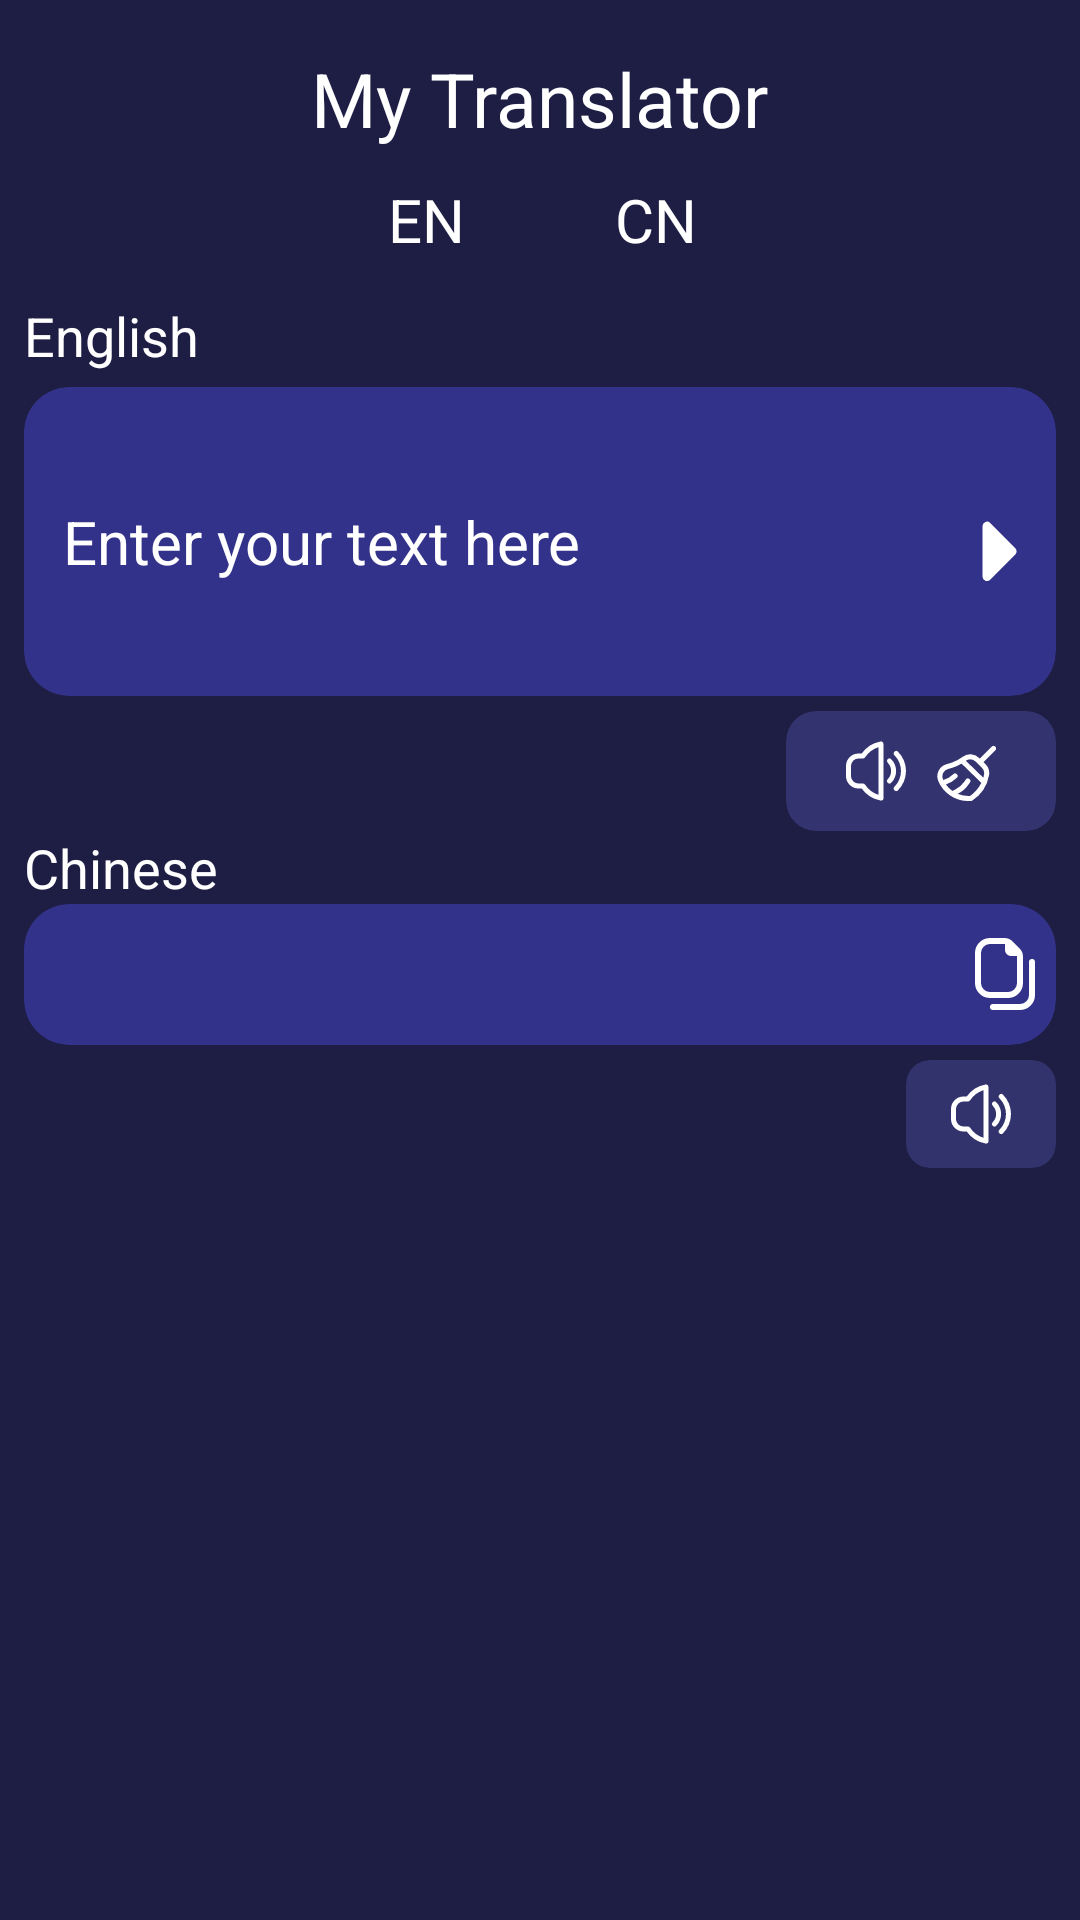

Locate icon controls on the screen. Image size 1080 × 1920, boxes as (x1, y1, x2, y2).
broom: (937, 745, 996, 801)
caret right: (982, 521, 1017, 581)
volume: (846, 741, 906, 801), (951, 1084, 1011, 1144)
